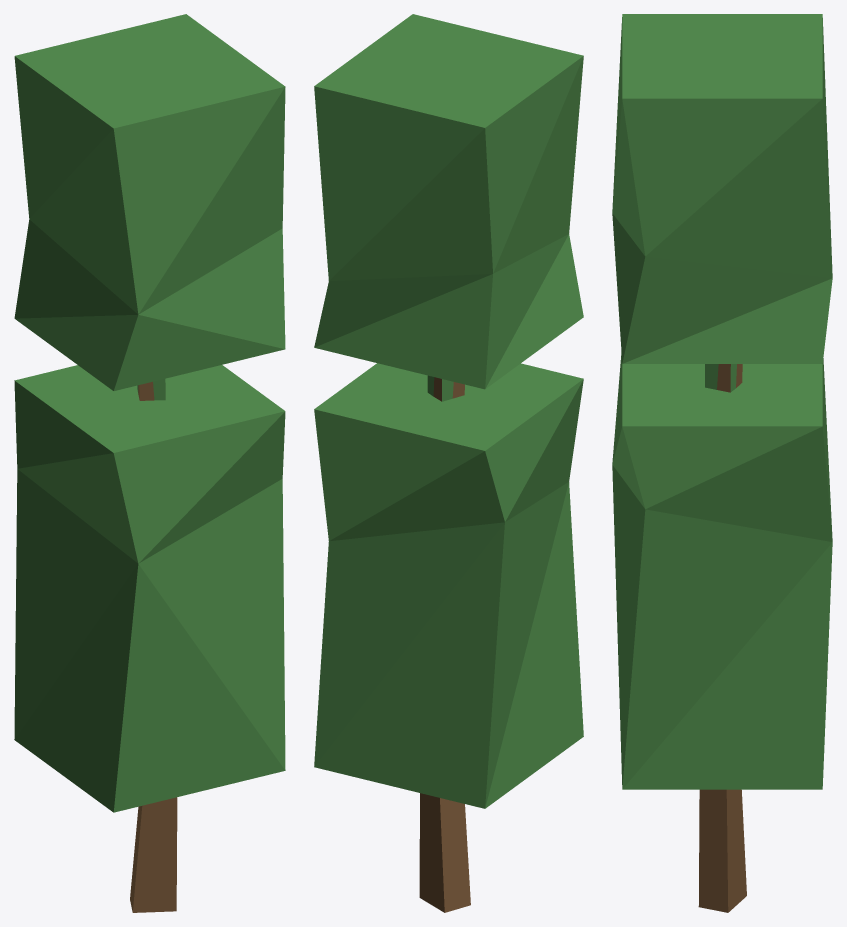
Rendered from tree3d-010.glb.
3 views of the same model, side by side, from view 1: azimuth 30°, elevation 25°; view 2: azimuth 150°, elevation 25°; view 3: azimuth 270°, elevation 25° (orthographic).
Parts seen in each view (by area): view 1: tree3d-010; view 2: tree3d-010; view 3: tree3d-010.
Boxes of the visible parts, bbox=[...] form: tree3d-010: bbox=[14, 14, 285, 912]; tree3d-010: bbox=[314, 14, 583, 912]; tree3d-010: bbox=[612, 14, 832, 912].
Bounding box in the file's own units: 0.2368 × 1 × 0.2368.
